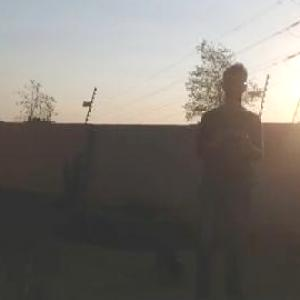follow: (189, 54, 265, 294)
